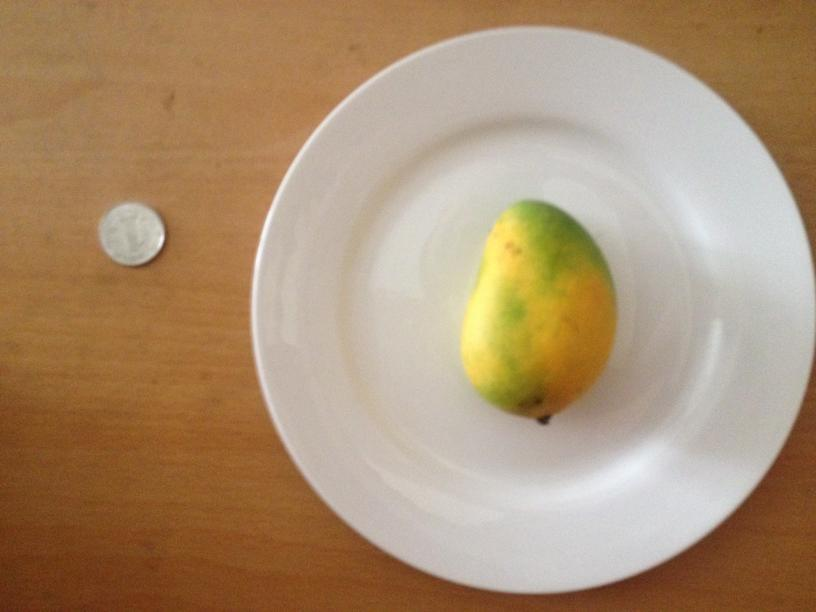coin: (98, 202, 167, 266)
mango: (466, 197, 616, 416)
